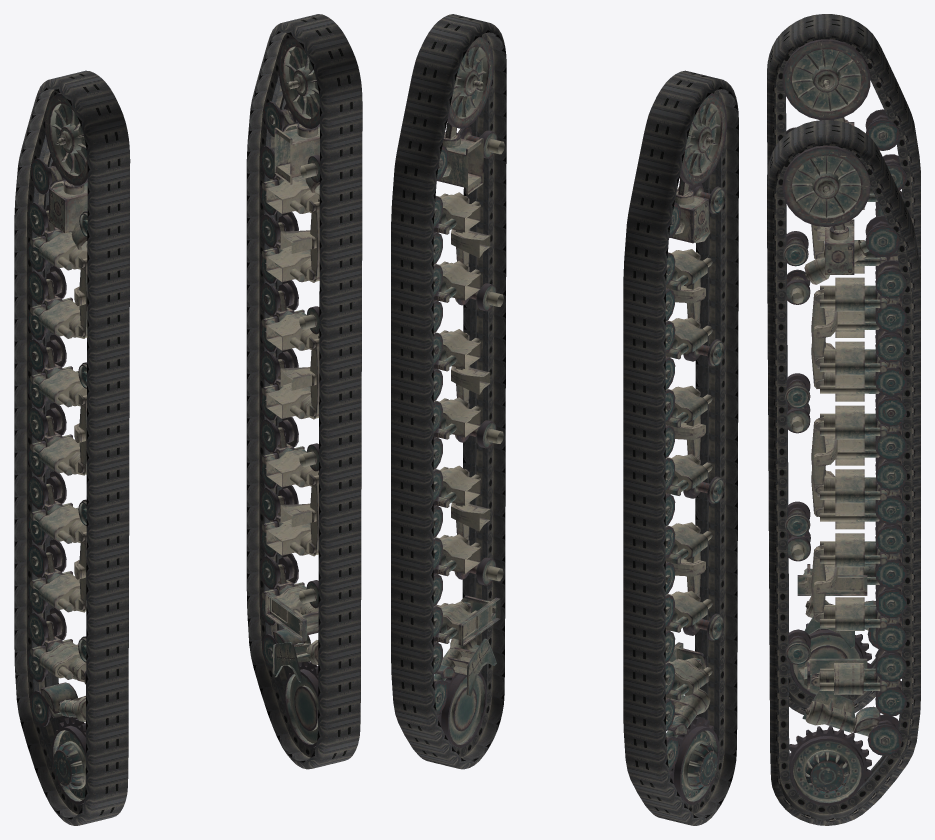
Rendered from Chassis.glb.
The picture shows the model from 3 angles, left to right: view 1: azimuth 30°, elevation 25°; view 2: azimuth 150°, elevation 25°; view 3: azimuth 270°, elevation 25°; orthographic projection. The views are drawn at different scales.
Visible parts, largest first — view 1: set_1_group_0, set_0_group_0, set_5_group_0, set_3_group_0, set_2_group_0, set_4_group_0; view 2: set_1_group_0, set_0_group_0, set_5_group_0, set_3_group_0, set_4_group_0, set_2_group_0; view 3: set_5_group_0, set_0_group_0, set_3_group_0, set_1_group_0, set_4_group_0, set_2_group_0.
Part boxes in pixels (left/top/right/bottom): set_1_group_0: left=14, top=70, right=130, bottom=825; set_0_group_0: left=246, top=14, right=362, bottom=769; set_5_group_0: left=259, top=36, right=319, bottom=747; set_3_group_0: left=27, top=93, right=87, bottom=804; set_2_group_0: left=30, top=166, right=87, bottom=680; set_4_group_0: left=261, top=109, right=319, bottom=641; set_1_group_0: left=623, top=70, right=738, bottom=825; set_0_group_0: left=391, top=14, right=506, bottom=769; set_5_group_0: left=433, top=37, right=504, bottom=747; set_3_group_0: left=665, top=93, right=726, bottom=804; set_4_group_0: left=433, top=160, right=500, bottom=645; set_2_group_0: left=665, top=216, right=712, bottom=700; set_5_group_0: left=782, top=145, right=907, bottom=805; set_0_group_0: left=767, top=120, right=920, bottom=825; set_3_group_0: left=782, top=39, right=906, bottom=697; set_1_group_0: left=767, top=14, right=920, bottom=714; set_4_group_0: left=797, top=240, right=900, bottom=692; set_2_group_0: left=797, top=187, right=900, bottom=595.
Bounding box in the file's own units: 2.08 × 5.29 × 1.07.
6 materials, 6 textured.
